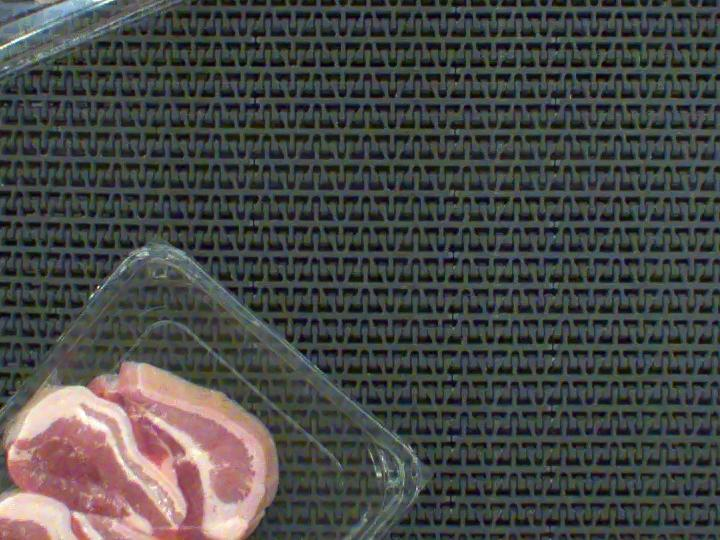packaging-error: (0, 366, 74, 462)
